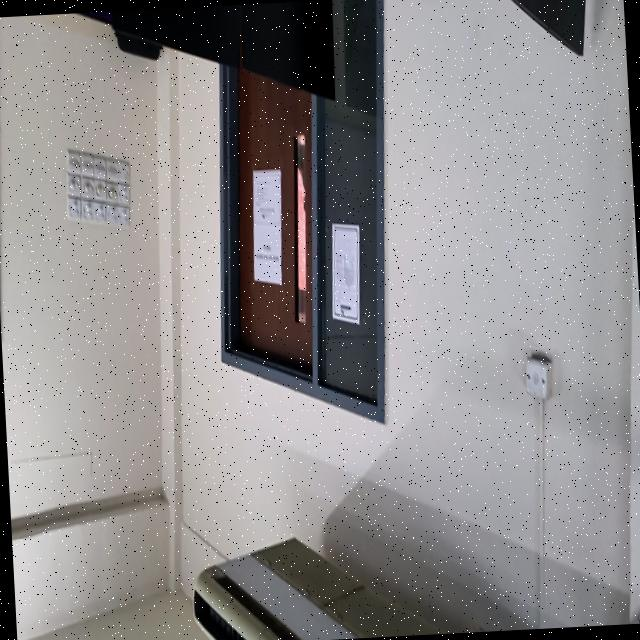Ac: (191, 537, 453, 640)
Monitor: (111, 0, 334, 98), (240, 0, 334, 98), (513, 0, 584, 54)
